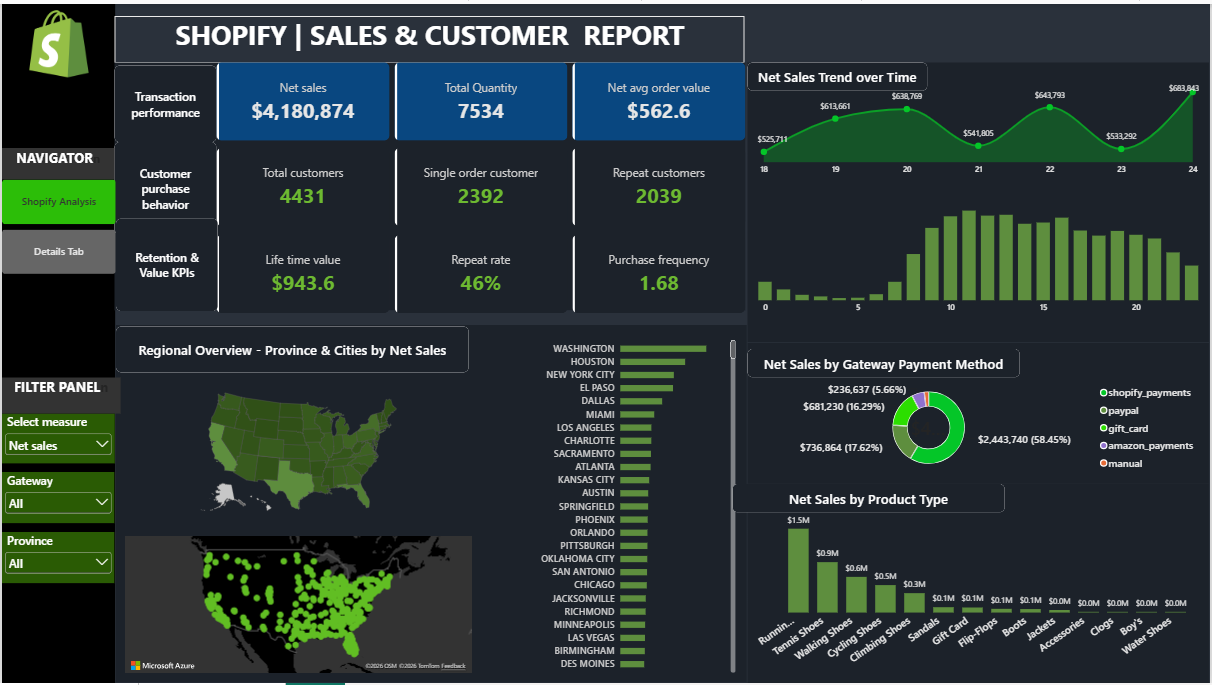

This screenshot's page, from the dashboard's own definition file:
{"tool":"powerbi","page":{"name":"Shopify Analysis","canvas":[1920,1080],"ordinal":0},"visuals":[{"type":"shape","box":[0,0,180,1080],"z":0},{"type":"textbox","box":[178.6,19.8,1003.5,73.7],"z":1000},{"type":"shape","box":[178.6,93.5,1003.5,394],"z":2000},{"type":"cardVisual","fields":{"Data":["shopify_sales.Net sales","shopify_sales.Total Quantity","shopify_sales.Net avg order value"]},"box":[340.2,93.5,841.9,124.7],"z":3000},{"type":"cardVisual","fields":{"Data":["shopify_sales.Transaction perf"]},"box":[179.1,96.7,162.1,122.3],"z":4000},{"type":"cardVisual","fields":{"Data":["shopify_sales.Total customers","shopify_sales.Single order customer","shopify_sales.Repeat customers"]},"box":[341.2,230.1,841.9,124.7],"z":5000},{"type":"cardVisual","fields":{"Data":["shopify_sales.Customer purchase behavior"]},"box":[179.1,218.9,162.1,147.8],"z":6000},{"type":"cardVisual","fields":{"Data":["shopify_sales.Life time value","shopify_sales.Repeat rate","shopify_sales.Purchase frequency"]},"box":[341.2,366.8,841.9,124.7],"z":7000},{"type":"cardVisual","fields":{"Data":["shopify_sales.Retention & value KPIs"]},"box":[182,341.2,162.1,147.8],"z":8000},{"type":"shape","box":[182,511.8,1003.6,568.6],"z":9000},{"type":"shapeMap","fields":{"Category":["shopify_sales.Billing Address Province"],"Value":["shopify_sales.Net sales"]},"box":[181.4,595.3,581.1,238.1],"z":10000},{"type":"slicer","fields":{"Values":["Select measure.Select measure"]},"box":[0,651.4,179.1,79.6],"z":11000},{"type":"azureMap","fields":{"Category":["shopify_sales.Location"]},"box":[178.6,833.4,583.9,246.6],"z":12000},{"type":"barChart","fields":{"Category":["shopify_sales.CITY"],"Y":["shopify_sales.Net sales"]},"box":[762.5,513.1,419.5,566.9],"z":12001},{"type":"cardVisual","fields":{"Data":["shopify_sales.Map Title"]},"box":[181.4,513.1,561.3,73.7],"z":12002},{"type":"shape","box":[1184.9,93.5,734.2,445],"z":12003},{"type":"areaChart","fields":{"Category":["shopify_sales.Invoice Date.Variation.Date Hierarchy.Day"],"Y":["shopify_sales.Net sales"]},"box":[1184.9,107.7,734.2,184.3],"z":12004},{"type":"columnChart","fields":{"Category":["shopify_sales.Hour"],"Y":["shopify_sales.Net sales"]},"box":[1184.9,292,734.2,221.1],"z":12005},{"type":"cardVisual","fields":{"Data":["shopify_sales.Trend Title"]},"box":[1184.9,93.5,286.3,45.4],"z":12006},{"type":"shape","box":[1184.9,538.6,734.2,223.9],"z":12007},{"type":"donutChart","fields":{"Category":["shopify_sales.Gateway"],"Y":["shopify_sales.Net sales"]},"box":[1184.9,586.8,734.2,175.7],"z":12008},{"type":"cardVisual","fields":{"Data":["shopify_sales.Gateway title"]},"box":[1184.9,549.9,433.7,45.4],"z":12009},{"type":"shape","box":[1184.9,762.5,734.2,317.5],"z":12010},{"type":"columnChart","fields":{"Category":["shopify_sales.Product Type"],"Y":["shopify_sales.Net sales"]},"box":[1182.1,762.5,737,317.5],"z":12011},{"type":"cardVisual","fields":{"Data":["shopify_sales.Product title"]},"box":[1162.2,762.5,433.7,45.4],"z":12012},{"type":"image","box":[0,9.5,181.3,107.4],"z":12013},{"type":"slicer","fields":{"Values":["shopify_sales.Gateway"]},"box":[0,744.4,178.9,81.1],"z":12014},{"type":"slicer","fields":{"Values":["shopify_sales.Billing Address Province"]},"box":[0,839.8,178.9,81.1],"z":12015},{"type":"pageNavigator","box":[0,279.2,181.3,150.3],"z":12016},{"type":"textbox","box":[0,229,178.9,50.1],"z":12017},{"type":"textbox","box":[0,594.1,188.5,57.3],"z":12018}]}

Visuals, with their boxes on the page's 1920x1080 design canvas (x1, y1, x2, y2). These are canvas units, not pixel positions in the 1212x685 screenshot, which may show the page scaled, cropped or inside an application window:
shape: 0:0:180:1080
textbox: 179:20:1182:94
shape: 179:94:1182:488
cardVisual - shopify_sales.Net sales x shopify_sales.Total Quantity: 340:94:1182:218
cardVisual - shopify_sales.Transaction perf: 179:97:341:219
cardVisual - shopify_sales.Total customers x shopify_sales.Single order customer: 341:230:1183:355
cardVisual - shopify_sales.Customer purchase behavior: 179:219:341:367
cardVisual - shopify_sales.Life time value x shopify_sales.Repeat rate: 341:367:1183:492
cardVisual - shopify_sales.Retention & value KPIs: 182:341:344:489
shape: 182:512:1186:1080
shapeMap - shopify_sales.Billing Address Province x shopify_sales.Net sales: 181:595:762:833
slicer - Select measure.Select measure: 0:651:179:731
azureMap - shopify_sales.Location: 179:833:762:1080
barChart - shopify_sales.CITY x shopify_sales.Net sales: 762:513:1182:1080
cardVisual - shopify_sales.Map Title: 181:513:743:587
shape: 1185:94:1919:538
areaChart - shopify_sales.Invoice Date.Variation.Date Hierarchy.Day x shopify_sales.Net sales: 1185:108:1919:292
columnChart - shopify_sales.Hour x shopify_sales.Net sales: 1185:292:1919:513
cardVisual - shopify_sales.Trend Title: 1185:94:1471:139
shape: 1185:539:1919:762
donutChart - shopify_sales.Gateway x shopify_sales.Net sales: 1185:587:1919:762
cardVisual - shopify_sales.Gateway title: 1185:550:1619:595
shape: 1185:762:1919:1080
columnChart - shopify_sales.Product Type x shopify_sales.Net sales: 1182:762:1919:1080
cardVisual - shopify_sales.Product title: 1162:762:1596:808
image: 0:10:181:117
slicer - shopify_sales.Gateway: 0:744:179:826
slicer - shopify_sales.Billing Address Province: 0:840:179:921
pageNavigator: 0:279:181:430
textbox: 0:229:179:279
textbox: 0:594:188:651
